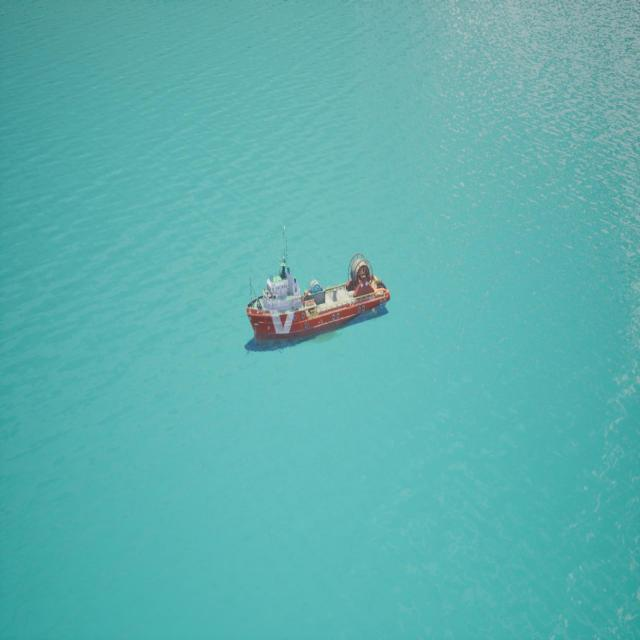tug boat: (245, 231, 391, 353)
